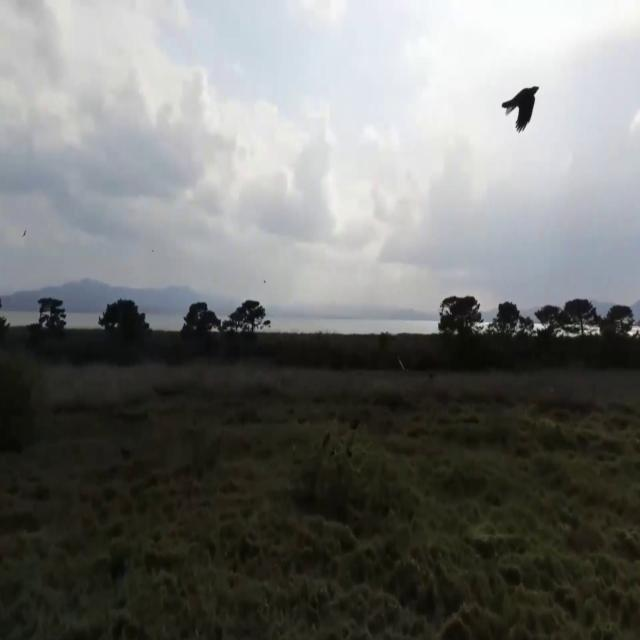bird: (500, 54, 541, 156)
